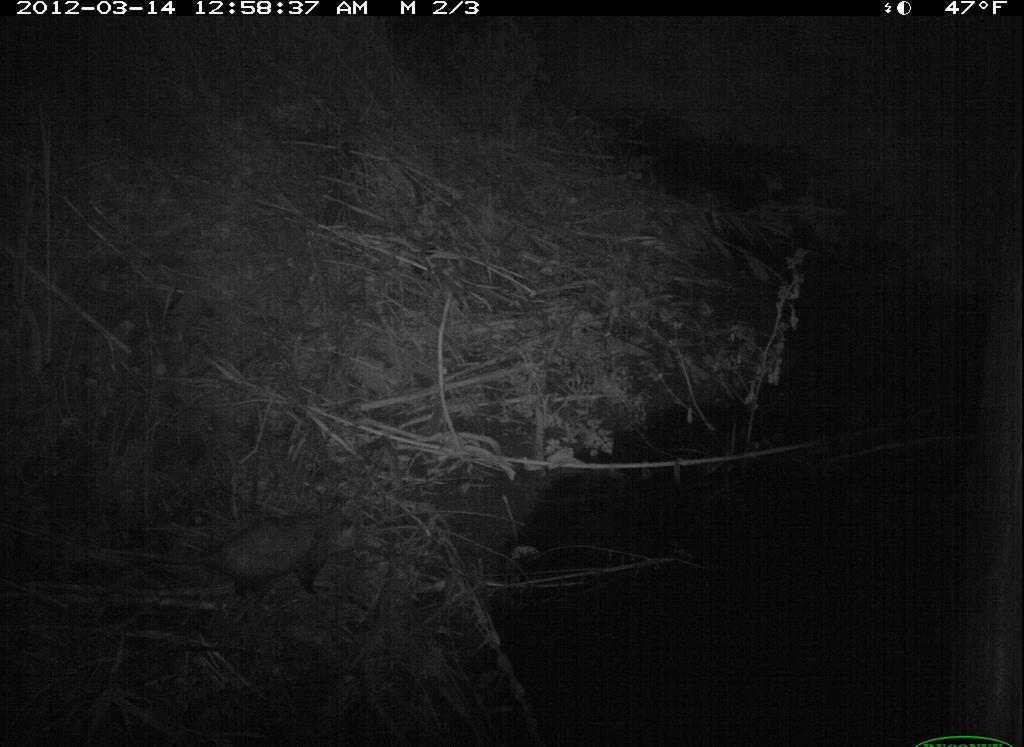opossum: (146, 504, 372, 603)
